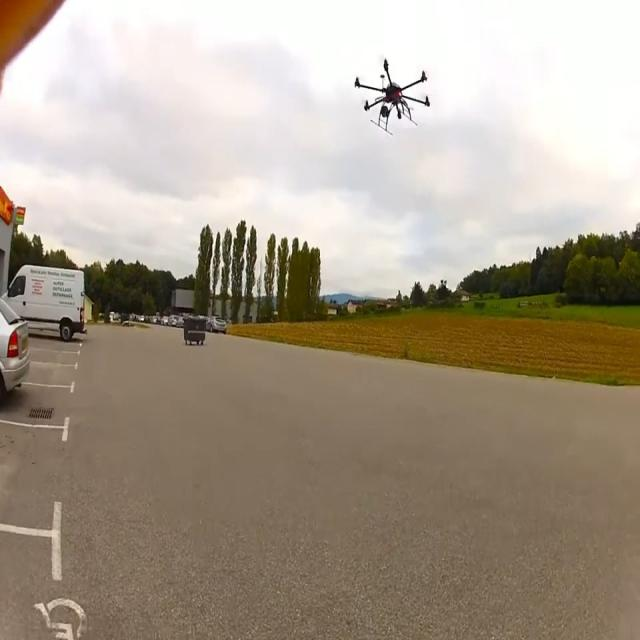drone: (353, 57, 430, 135)
